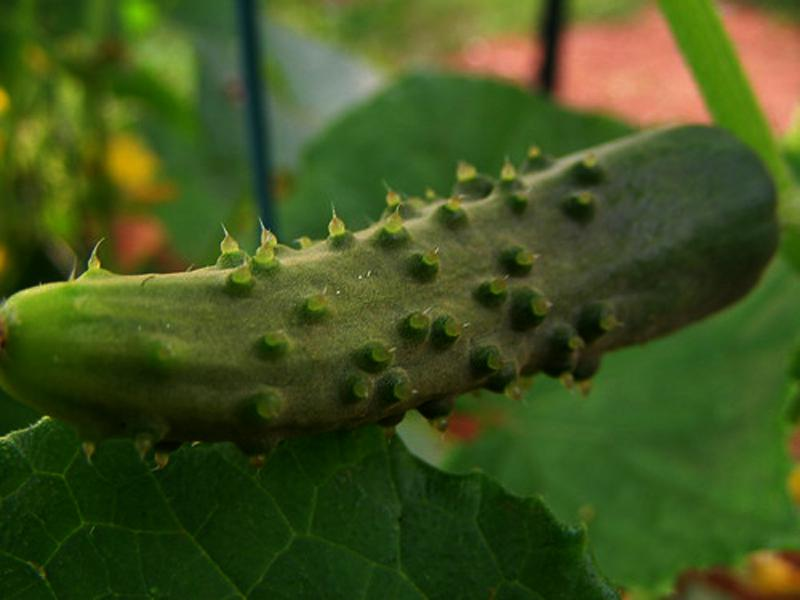Cucumber: (5, 125, 782, 454)
